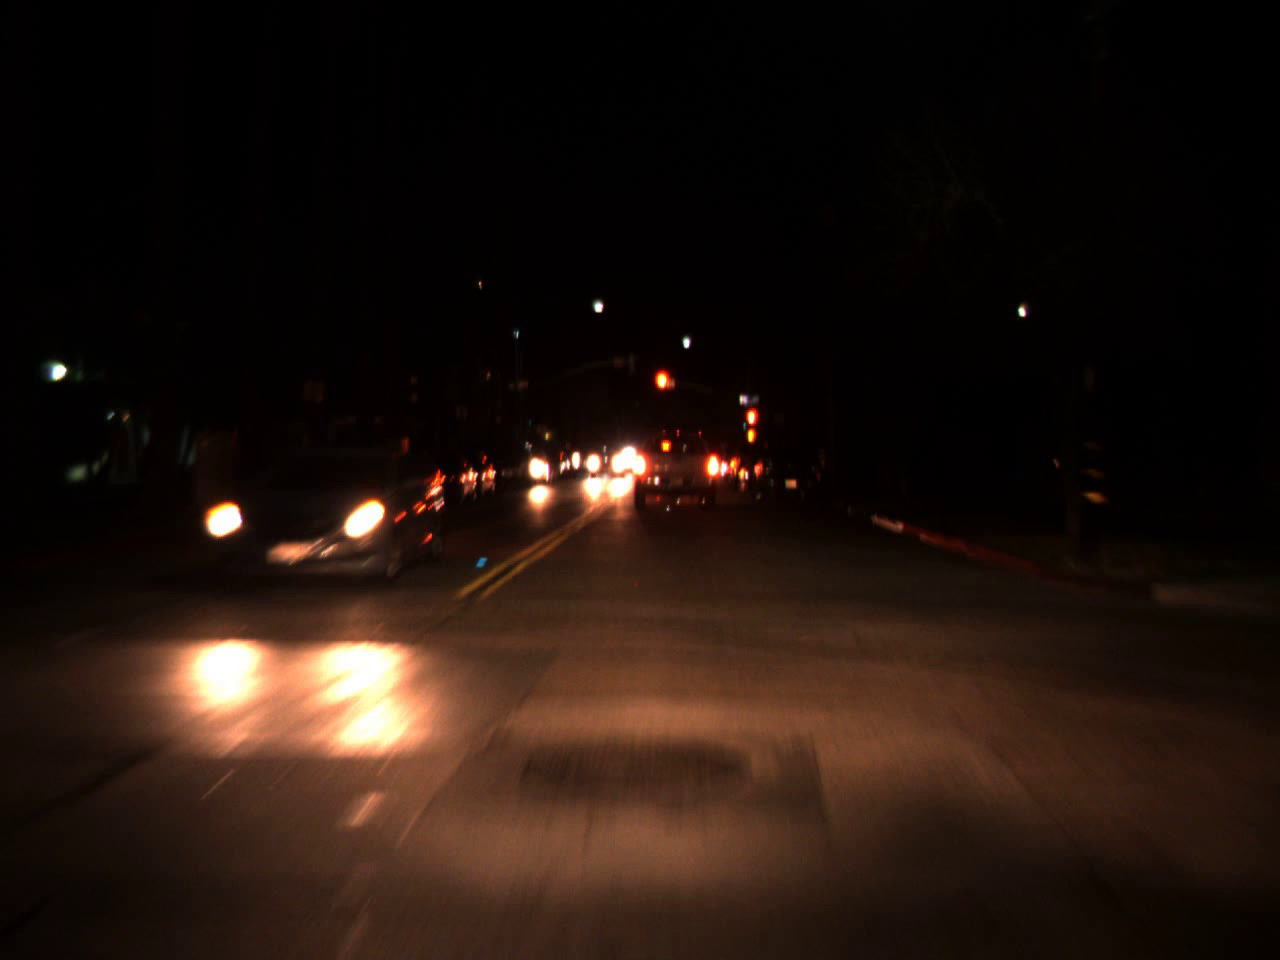stop: (652, 366, 673, 411), (743, 406, 761, 449)
